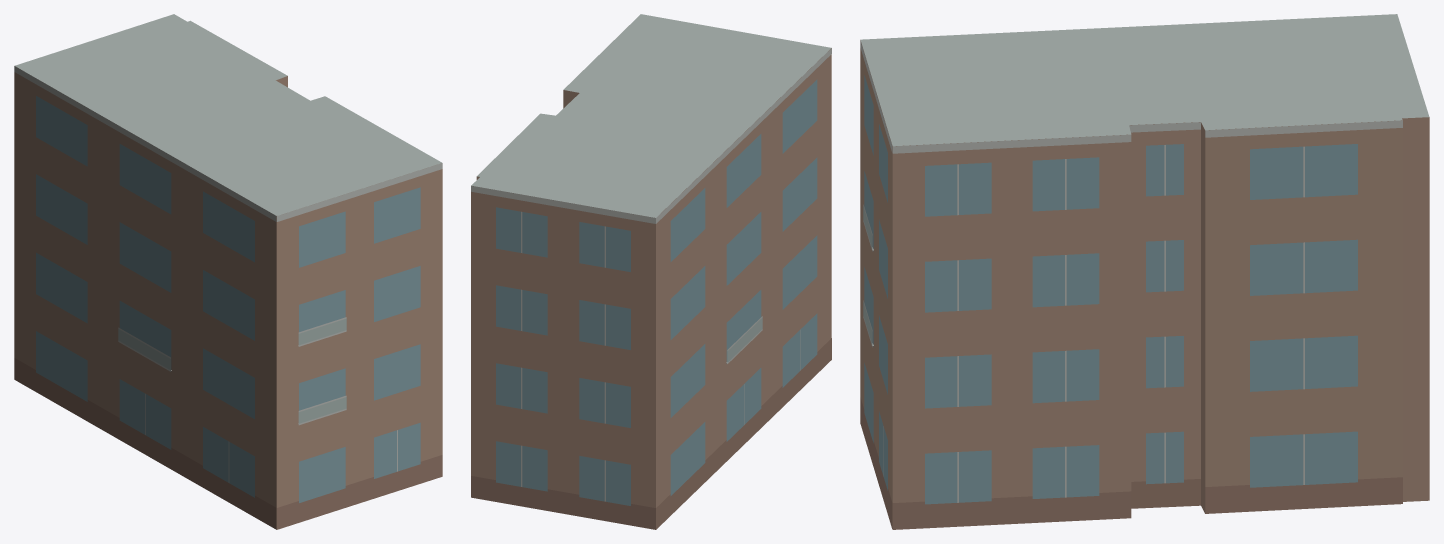
File: survey-upis-32680226.glb
3 views of the same model, side by side, from view 1: azimuth 30°, elevation 25°; view 2: azimuth 150°, elevation 25°; view 3: azimuth 270°, elevation 25° (orthographic). The views are drawn at different scales.
Parts seen in each view (by area): view 1: survey-upis-32680226.tmp; view 2: survey-upis-32680226.tmp; view 3: survey-upis-32680226.tmp.
Part boxes in pixels (<box>): survey-upis-32680226.tmp: <box>14,14,442,529</box>; survey-upis-32680226.tmp: <box>471,14,831,529</box>; survey-upis-32680226.tmp: <box>860,14,1429,529</box>.
Bounding box in the file's own units: 9.25 × 12.5 × 16.82.
